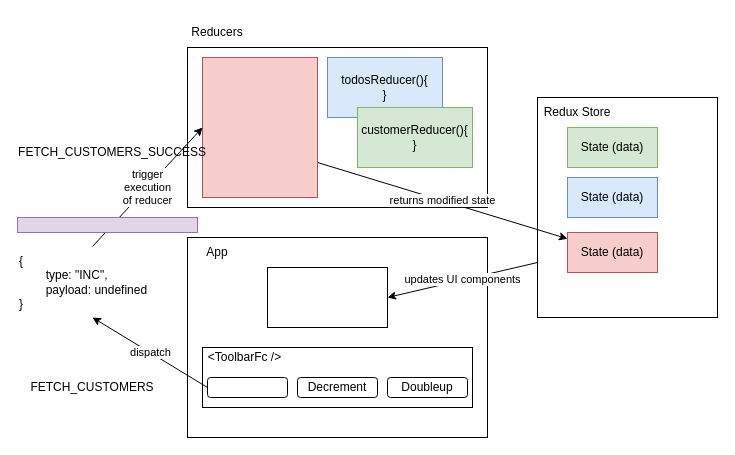
Image size: 735x455. Some labels were removed from this diagram. The shapes that lost their labels are listed below. From the top down, each one's box as (x1, y1, x2, y2) in pixels, then its label:
(202, 56, 318, 198): counterReducer(){ }
(16, 216, 198, 232): MIDDLEWARE (handle api calls)
(266, 266, 388, 328): <CounterFc />
(206, 376, 288, 398): Increment
